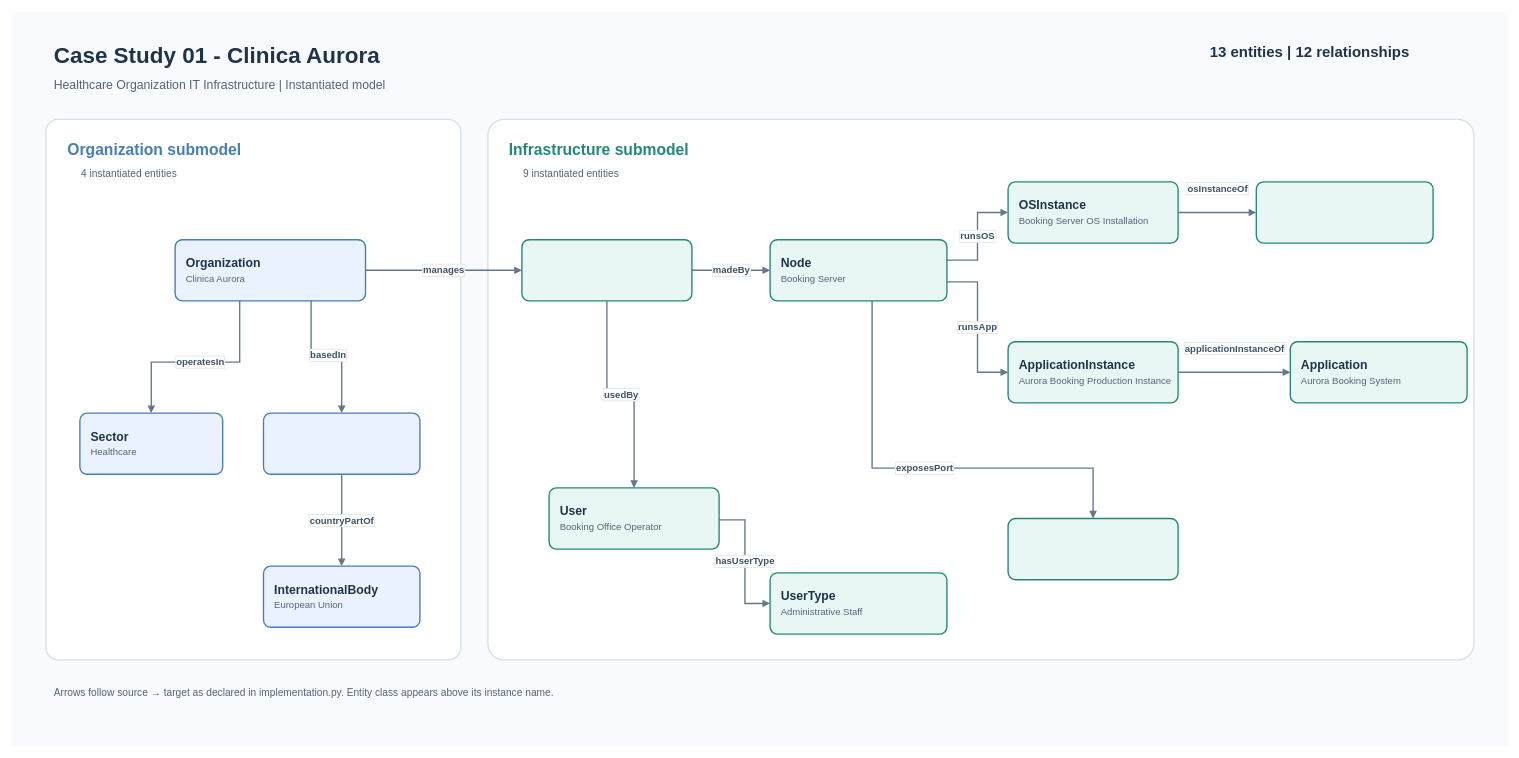
This 1519x758 diagram has some shape labels left out. The shapes that lost their labels are listed below. From the top down, each one's centre as x and y in pixels, then its label:
(1344,212): OS Ubuntu Server 24.04 LTS
(606,270): Infrastructure Clinica Aurora IT Infrastructure
(341,443): HomeCountry Italy
(1092,548): Port Booking HTTPS Port (443/TCP)
